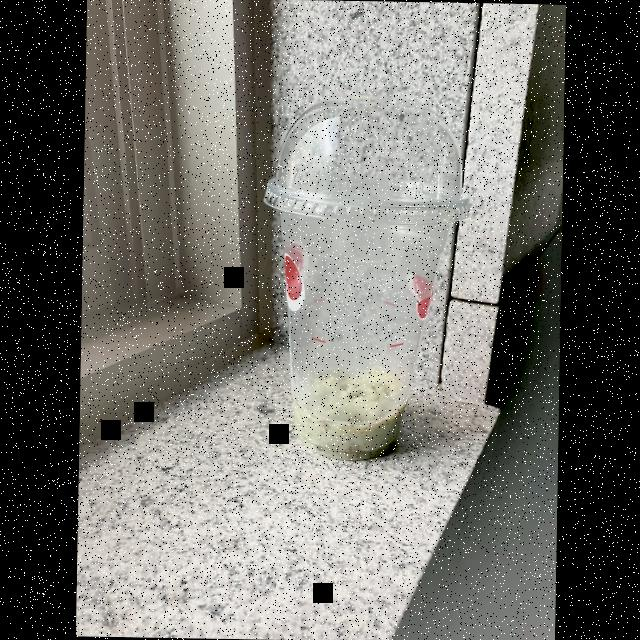plastic_cup: (257, 97, 474, 479)
plastic_cup_lid: (262, 98, 473, 230)
